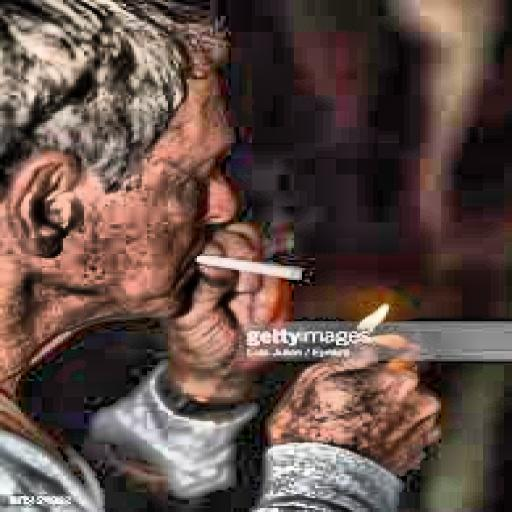fire: (346, 300, 402, 337)
